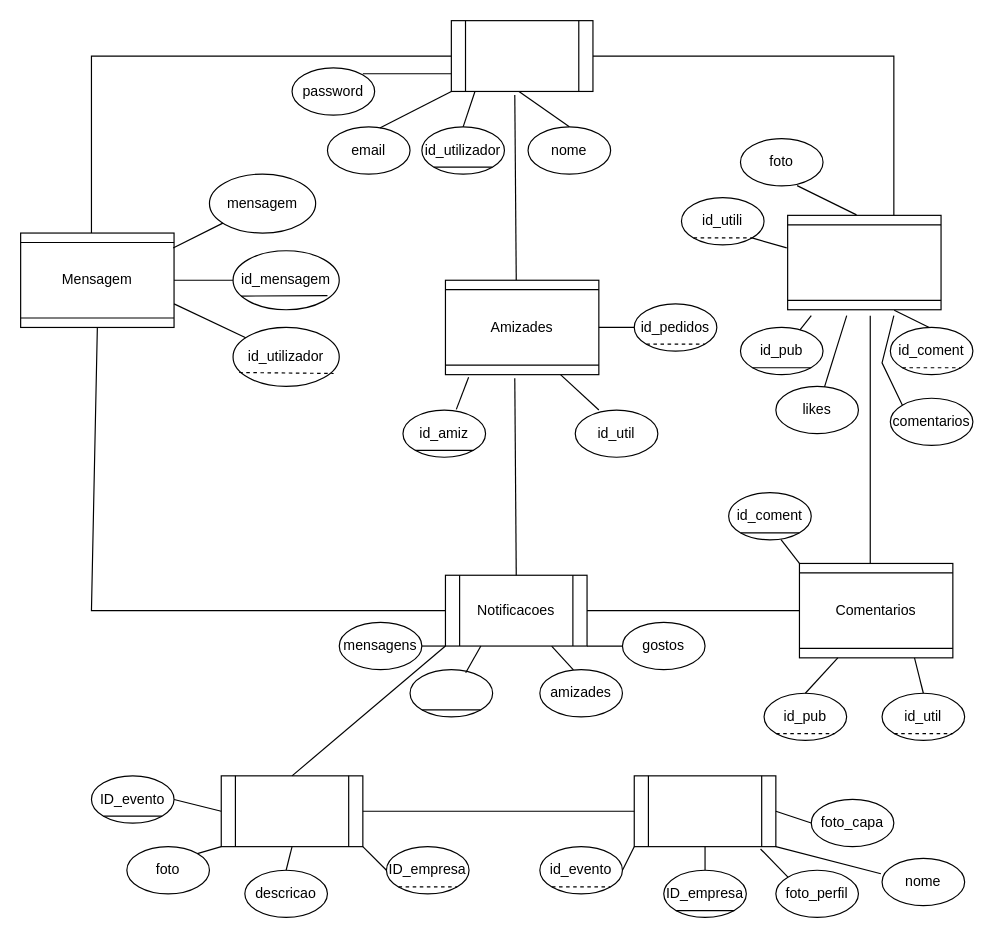
Some shapes in this 994 by 938 pixel diagram are drawn without their labels. Here are the shapes that lost their labels. From the top down, the box of each, then its label:
(450, 19, 593, 91): Utilizador
(786, 214, 941, 310): Publicacoes
(409, 668, 493, 717): id_notif
(220, 775, 363, 847): Eventos
(633, 775, 776, 847): Empresas
